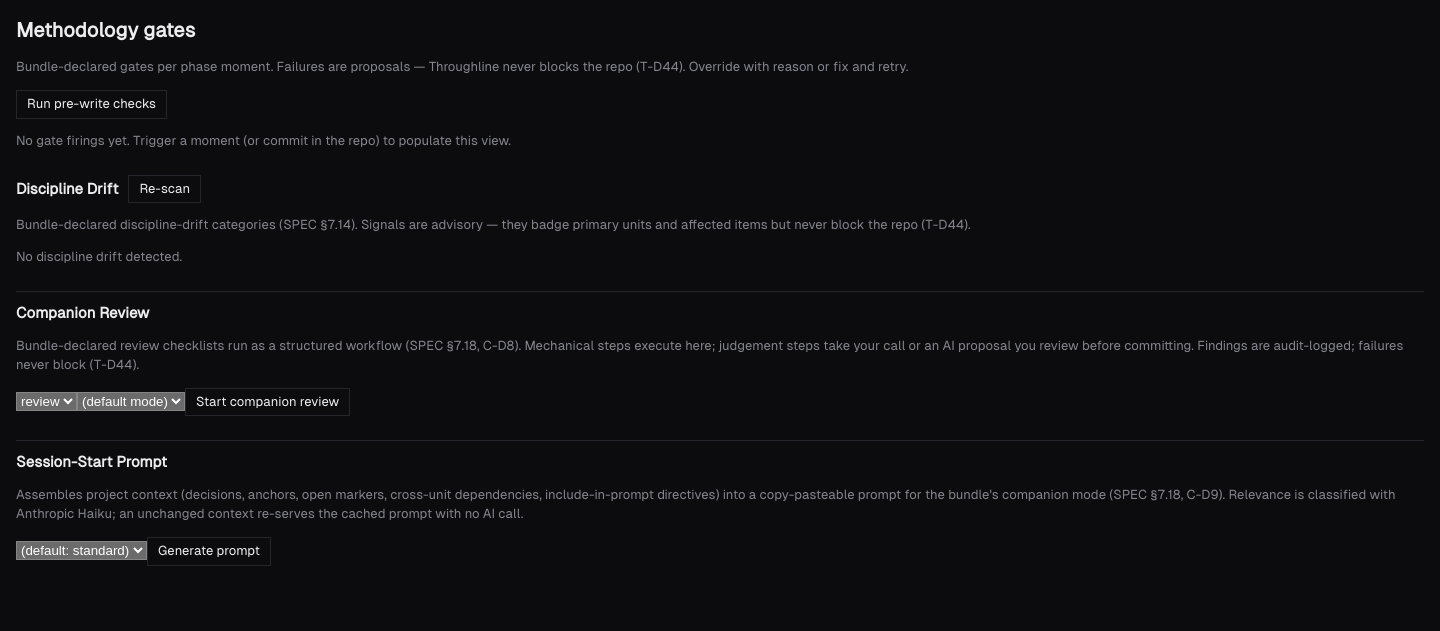
Scenario: Phase 8 — methodology-gates view › Phase 13 — session-start surface generates and copies a prompt (C-D9, T-D12)
Expected: the element with test id "session-start" is shown, [16,440,1424,566]
Select "strict" in the dropdown with test id "session-start-mode-pick" at (82, 550), box [16,541,147,560]
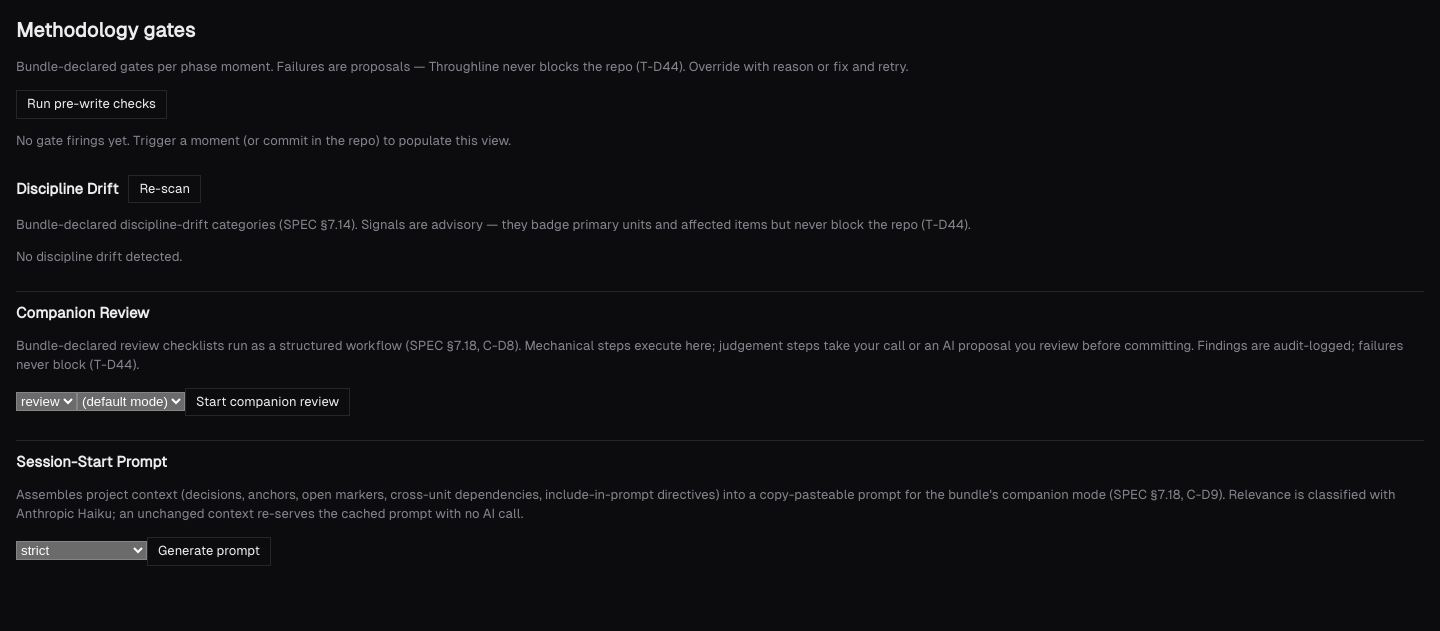
Click the button with test id "session-start-generate".
click(209, 551)  # box [147,537,271,566]
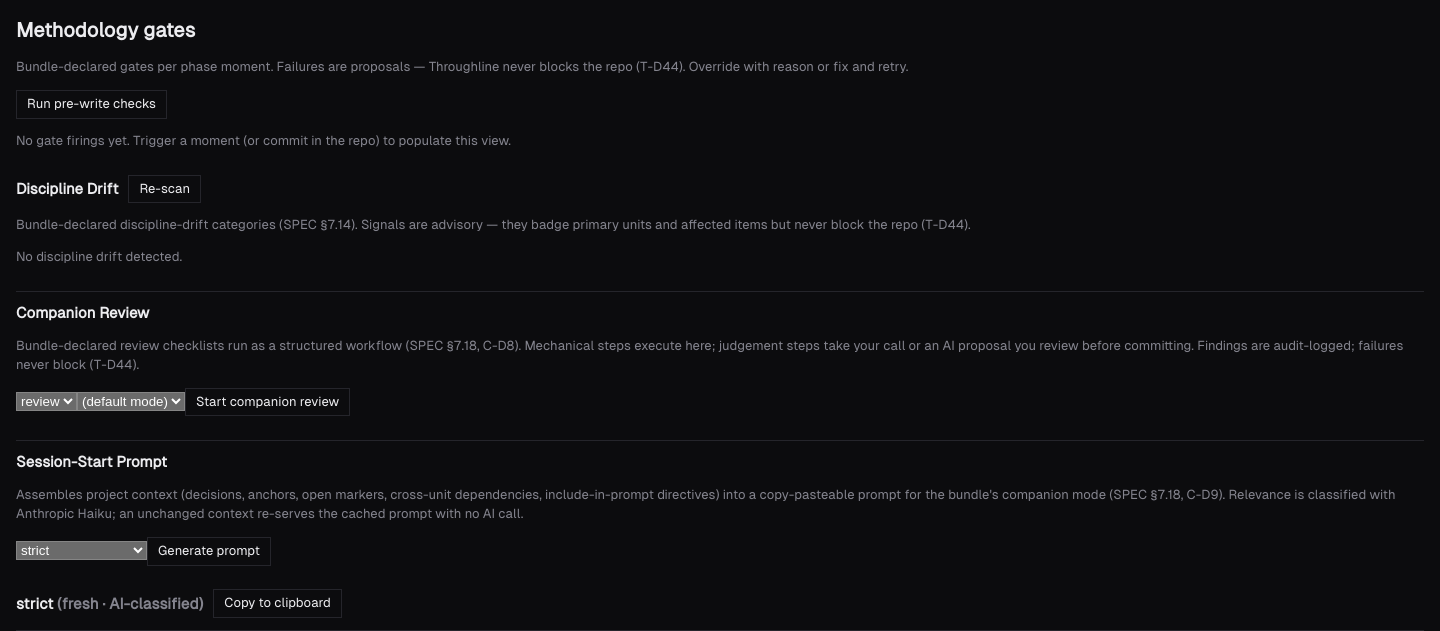
Click the button with test id "session-start-copy".
click(278, 604)  # box [213,589,342,618]
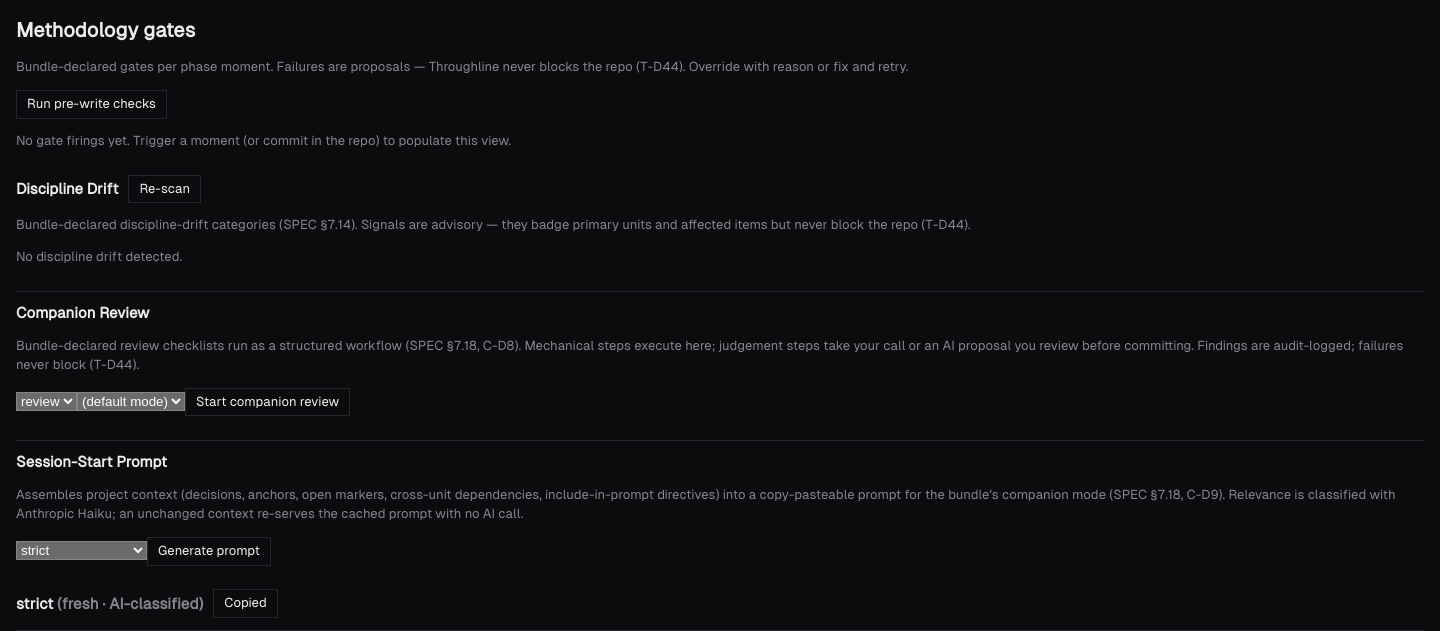
Result: the button with test id "session-start-copy" reads "Copied" at [213,589,278,618]
